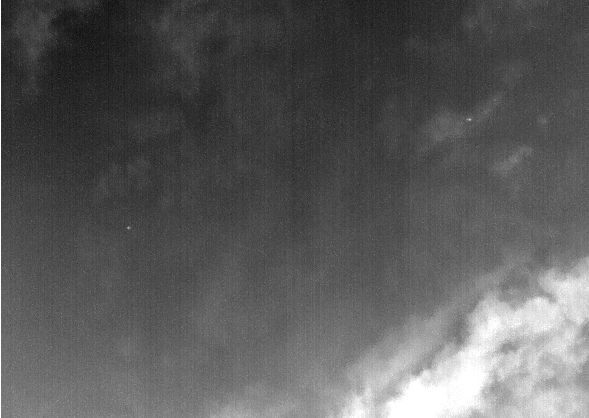dim target: (124, 223, 133, 233), (465, 115, 474, 124)
